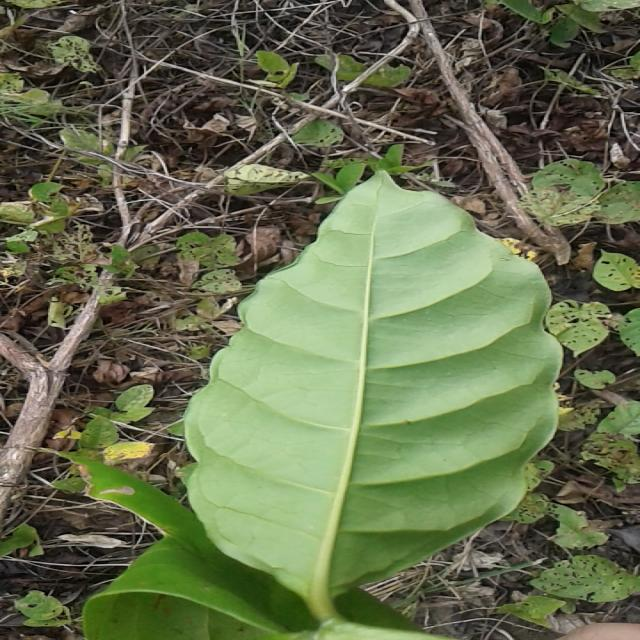Sanas: (183, 171, 556, 623)
